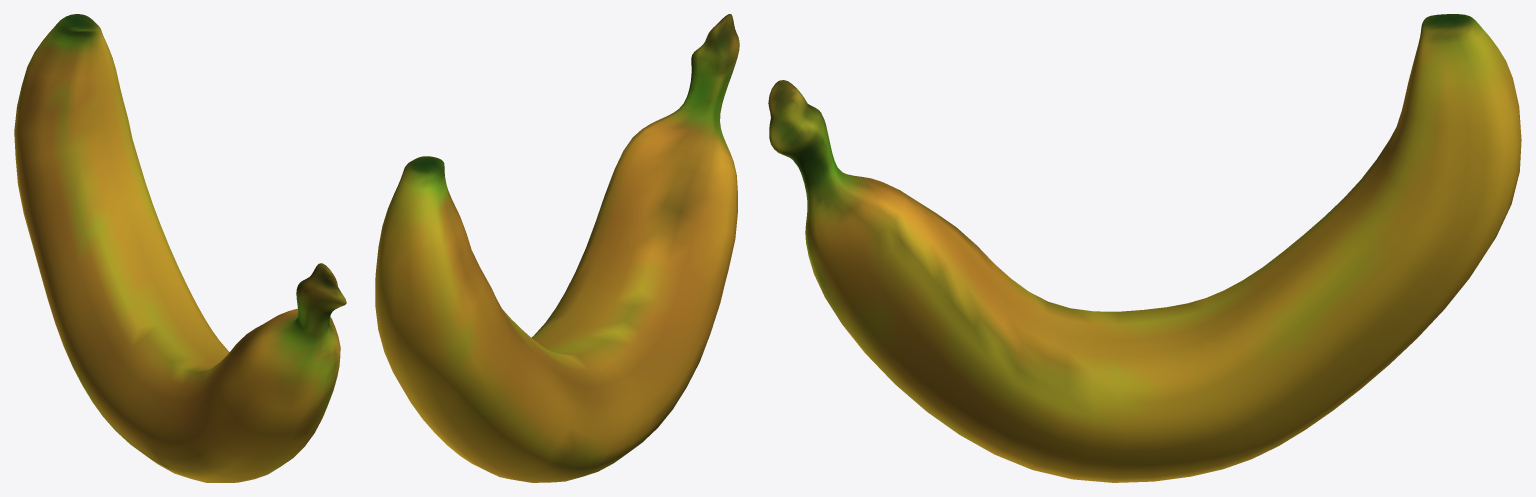
The model's file is asset.glb.
The picture shows the model from 3 angles, left to right: view 1: azimuth 30°, elevation 25°; view 2: azimuth 150°, elevation 25°; view 3: azimuth 270°, elevation 25°; orthographic projection. The views are drawn at different scales.
Visible parts, largest first — view 1: Cube; view 2: Cube; view 3: Cube.
Part boxes in pixels (x1,y1,x2,y2): Cube: (14, 14, 346, 482); Cube: (375, 14, 739, 482); Cube: (768, 14, 1521, 482).
Size of the model in its own units: 0.2551 by 0.6977 by 1.04.
